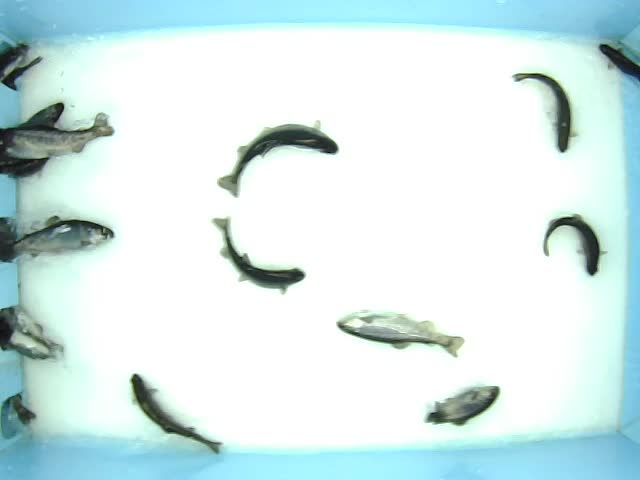fish: (96, 365, 250, 461), (206, 113, 357, 203), (208, 209, 320, 299), (502, 67, 598, 158), (337, 300, 474, 357), (420, 362, 532, 431), (15, 199, 137, 260), (533, 198, 605, 285)
